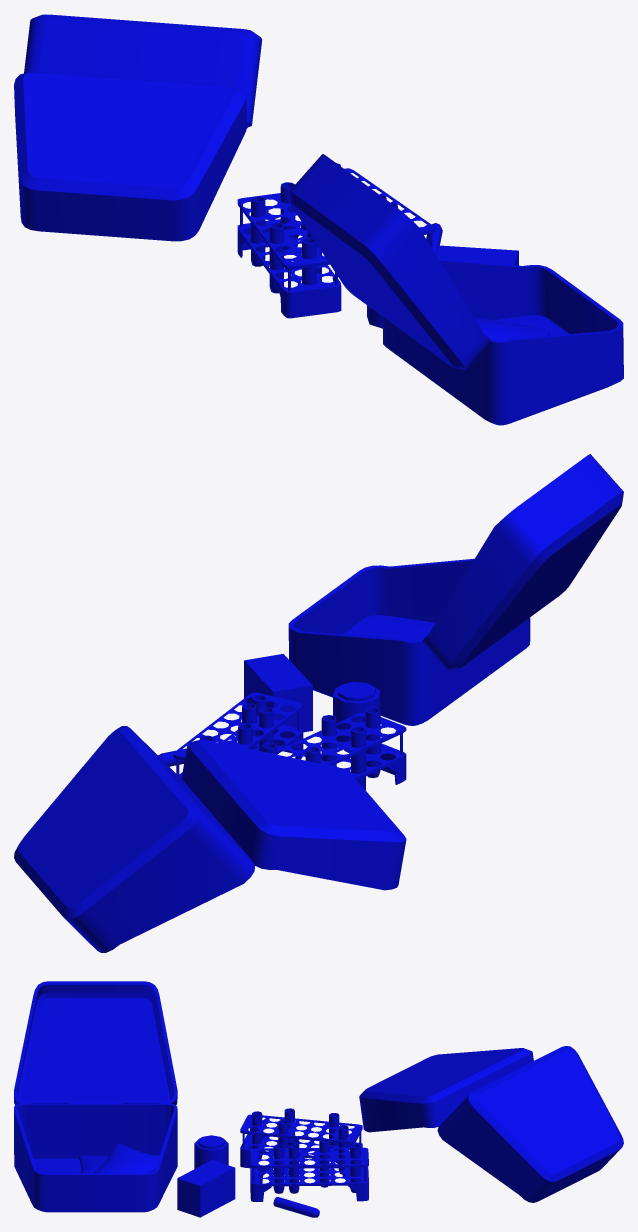
The model's file is ClutterPile_3.FBX.
3 views of the same model, one above another, from view 1: azimuth 30°, elevation 25°; view 2: azimuth 150°, elevation 25°; view 3: azimuth 270°, elevation 25° (orthographic). The views are drawn at different scales.
Visible parts, largest first — view 1: ClutterPile_3; view 2: ClutterPile_3; view 3: ClutterPile_3.
Boxes of the visible parts, left/top/right/bottom form: ClutterPile_3: left=14, top=14, right=623, bottom=425; ClutterPile_3: left=14, top=454, right=623, bottom=952; ClutterPile_3: left=14, top=981, right=623, bottom=1217.
Bounding box in the file's own units: 11.29 × 7.34 × 25.65.
